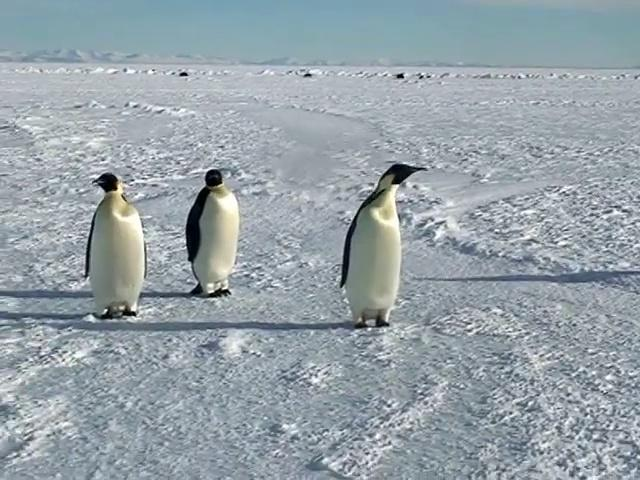animal: (340, 164, 425, 327)
